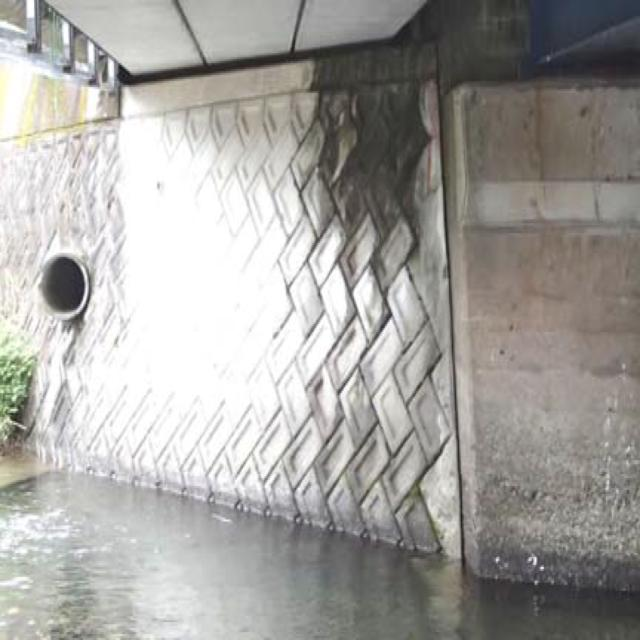leakage: (310, 34, 439, 263)
